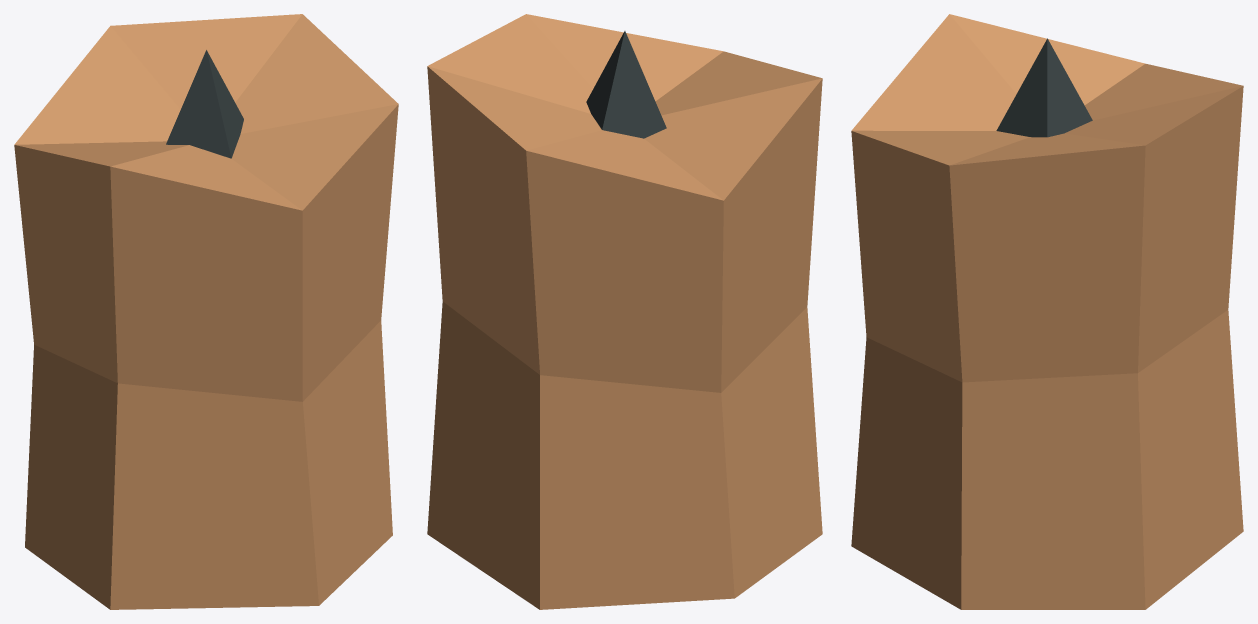
File: Candle_1_Buff.fbx
3 views of the same model, side by side, from view 1: azimuth 30°, elevation 25°; view 2: azimuth 150°, elevation 25°; view 3: azimuth 270°, elevation 25° (orthographic). The views are drawn at different scales.
Parts seen in each view (by area): view 1: Candle_1_Buff; view 2: Candle_1_Buff; view 3: Candle_1_Buff.
Part boxes in pixels (x1=…): Candle_1_Buff: x1=14, y1=14, x2=398, y2=609; Candle_1_Buff: x1=427, y1=14, x2=822, y2=609; Candle_1_Buff: x1=851, y1=14, x2=1243, y2=609.
Size of the model in its own units: 10.39 by 16.87 by 12.
